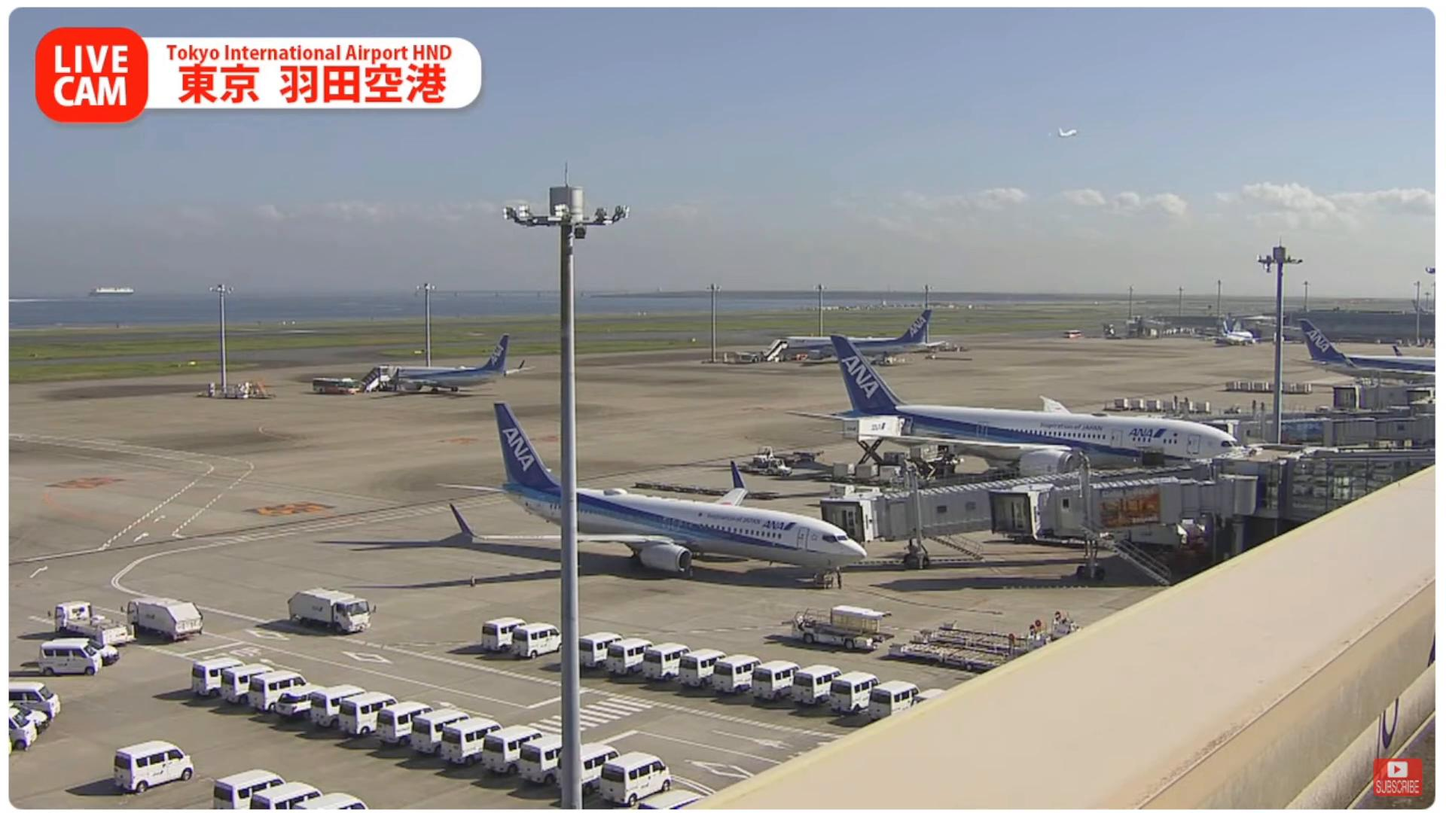Aerobridge: (826, 458, 1220, 543), (991, 451, 1256, 537)
Airplane: (446, 405, 867, 590)
Baggage truck: (285, 584, 372, 635)
JCPL: (918, 616, 1075, 656), (890, 639, 1018, 670)
Skyloader: (780, 603, 894, 653)
Window: (1290, 445, 1435, 519)
